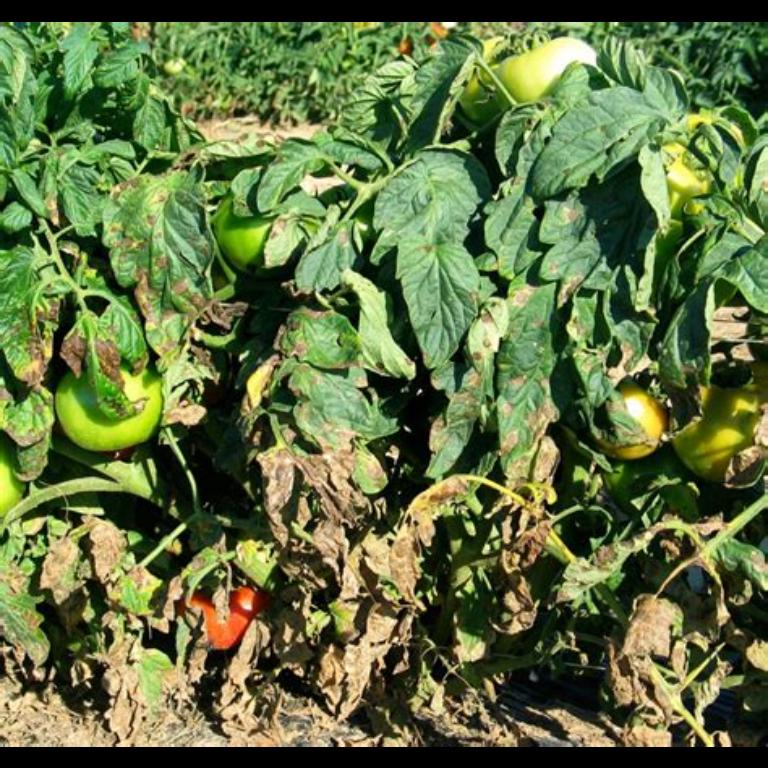blight: (510, 386, 554, 474), (314, 426, 362, 488), (84, 331, 126, 393)
